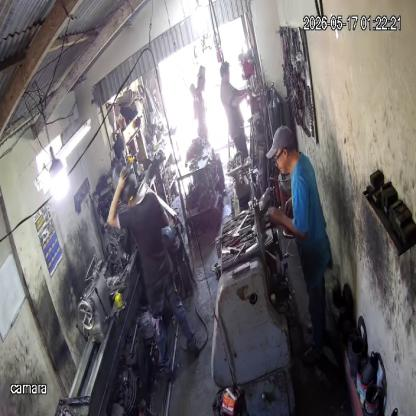lentes: (274, 147, 286, 162)
